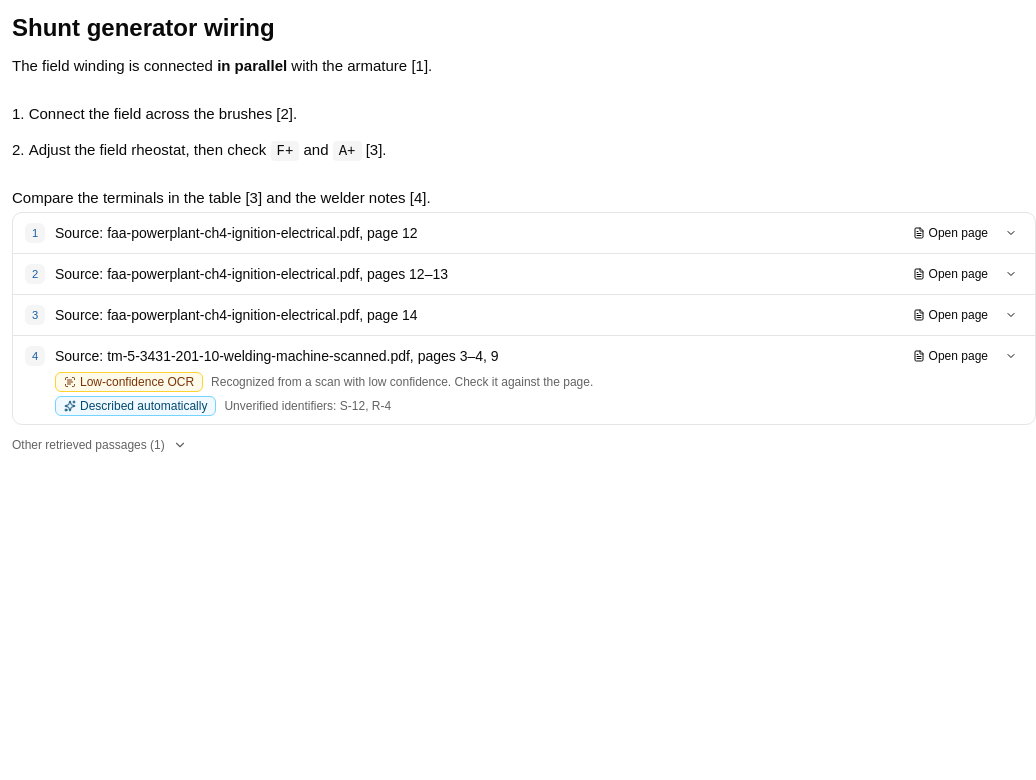
Test: uncited passages are available on demand under their own disclosure
This screenshot has width=1036, height=780.
expect the text "Magneto timing is checked with a timing light." is not shown: met
Click the button "Other retrieved passages (1)" at (99, 445), box [12,437,187,453]
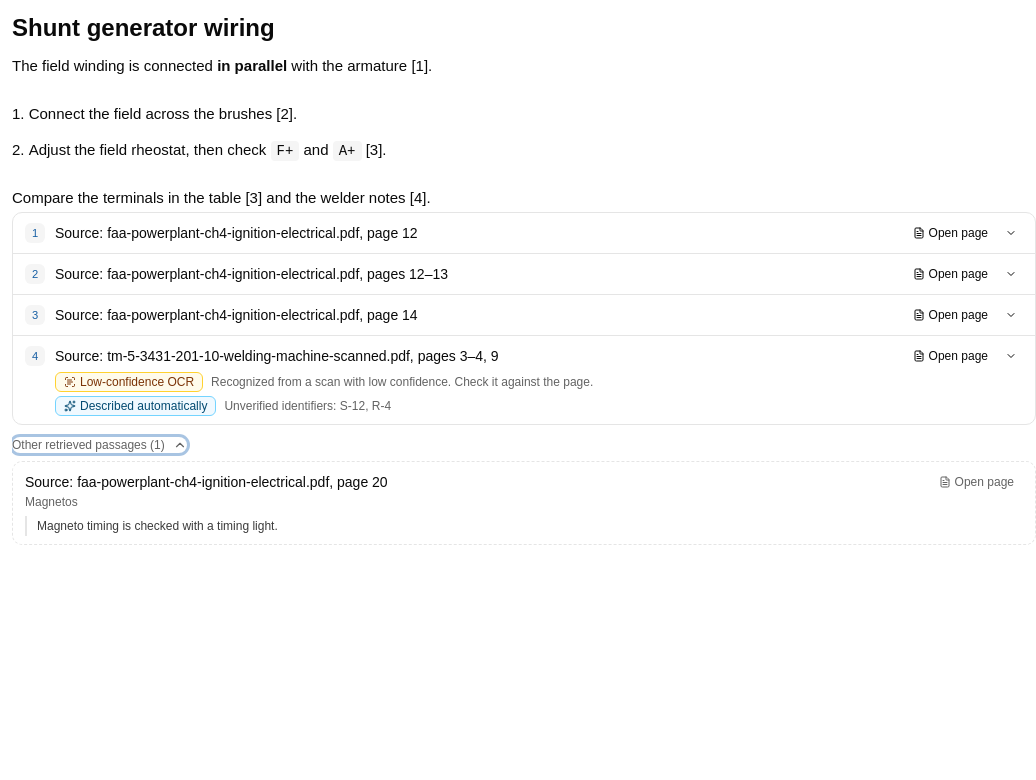
expect the text "Magneto timing is checked with a timing light." is shown: met, box [25,516,922,536]
